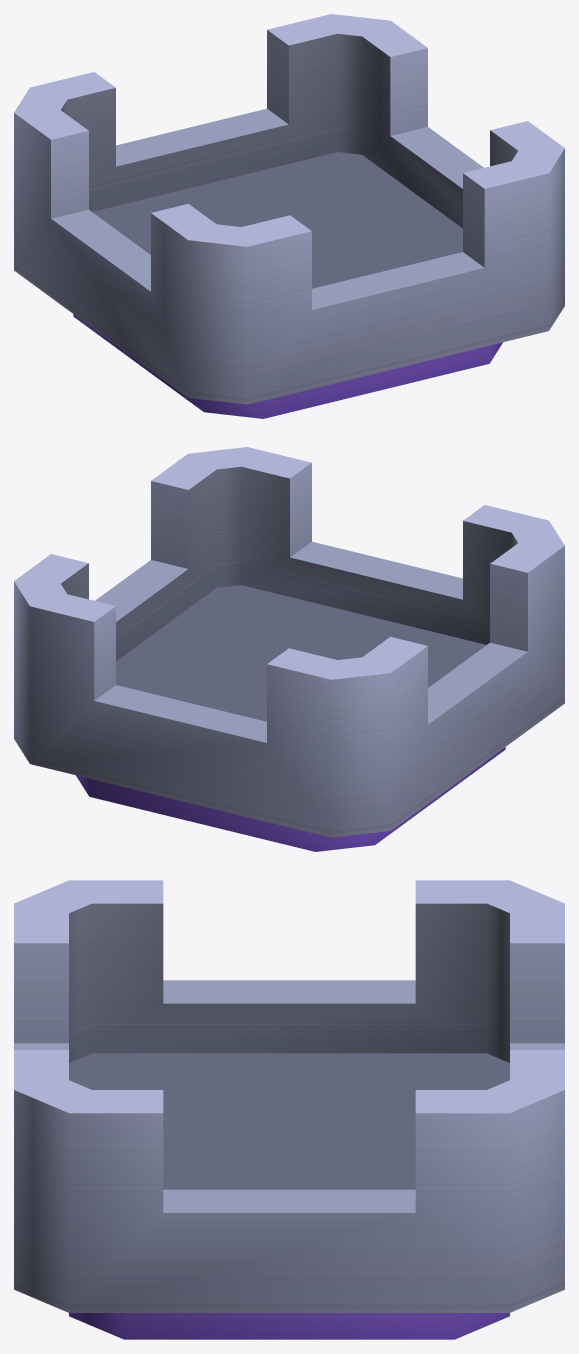
File: tower-square-middle-c.glb
The picture shows the model from 3 angles, top to bottom: view 1: azimuth 30°, elevation 25°; view 2: azimuth 150°, elevation 25°; view 3: azimuth 270°, elevation 25°; orthographic projection. The views are drawn at different scales.
Visible parts, largest first — view 1: tower-square-middle-c; view 2: tower-square-middle-c; view 3: tower-square-middle-c.
Boxes of the visible parts, bbox=[...] form: tower-square-middle-c: bbox=[14, 14, 564, 418]; tower-square-middle-c: bbox=[14, 447, 564, 851]; tower-square-middle-c: bbox=[14, 880, 564, 1339].
Bounding box in the file's own units: 1 × 0.5001 × 1.
Materials: 1 (1 with a texture image).
